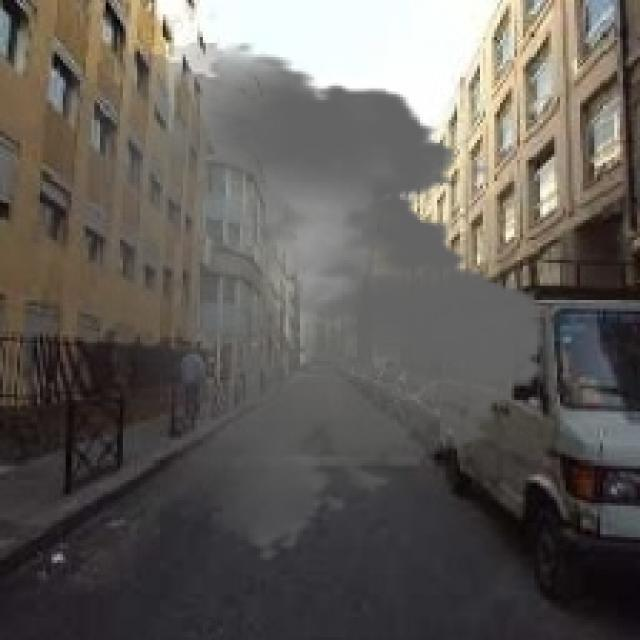Smoke: (0, 43, 566, 563)
